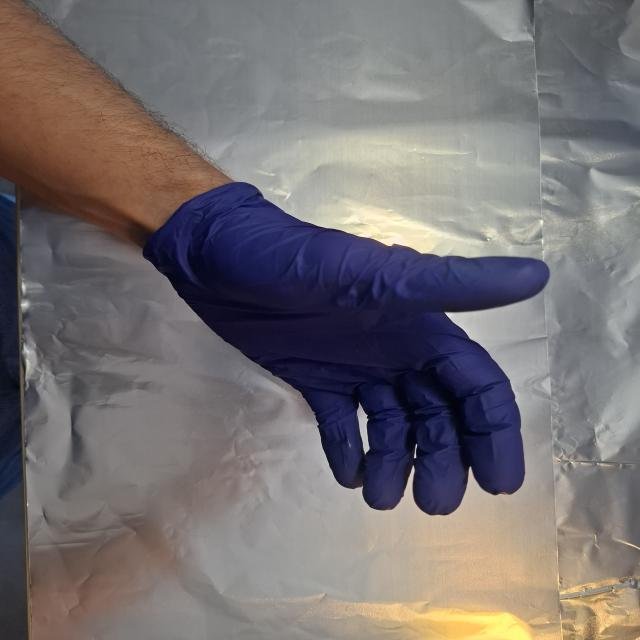glove_on: (144, 183, 556, 516)
